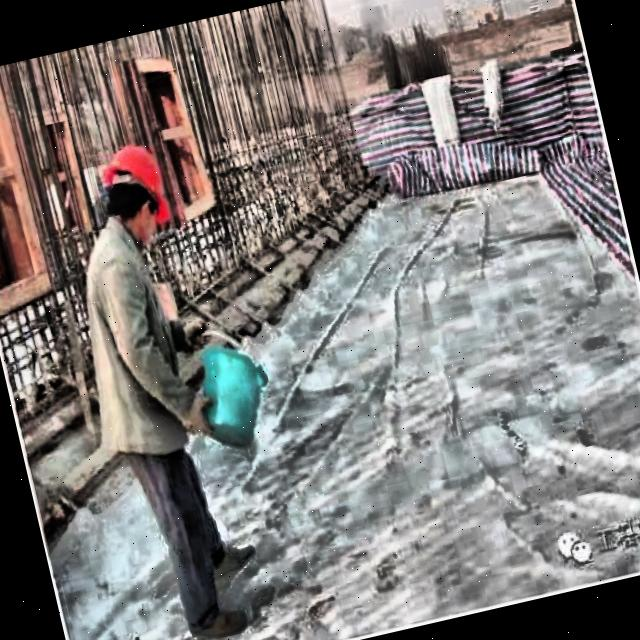helmet: (89, 136, 177, 240)
